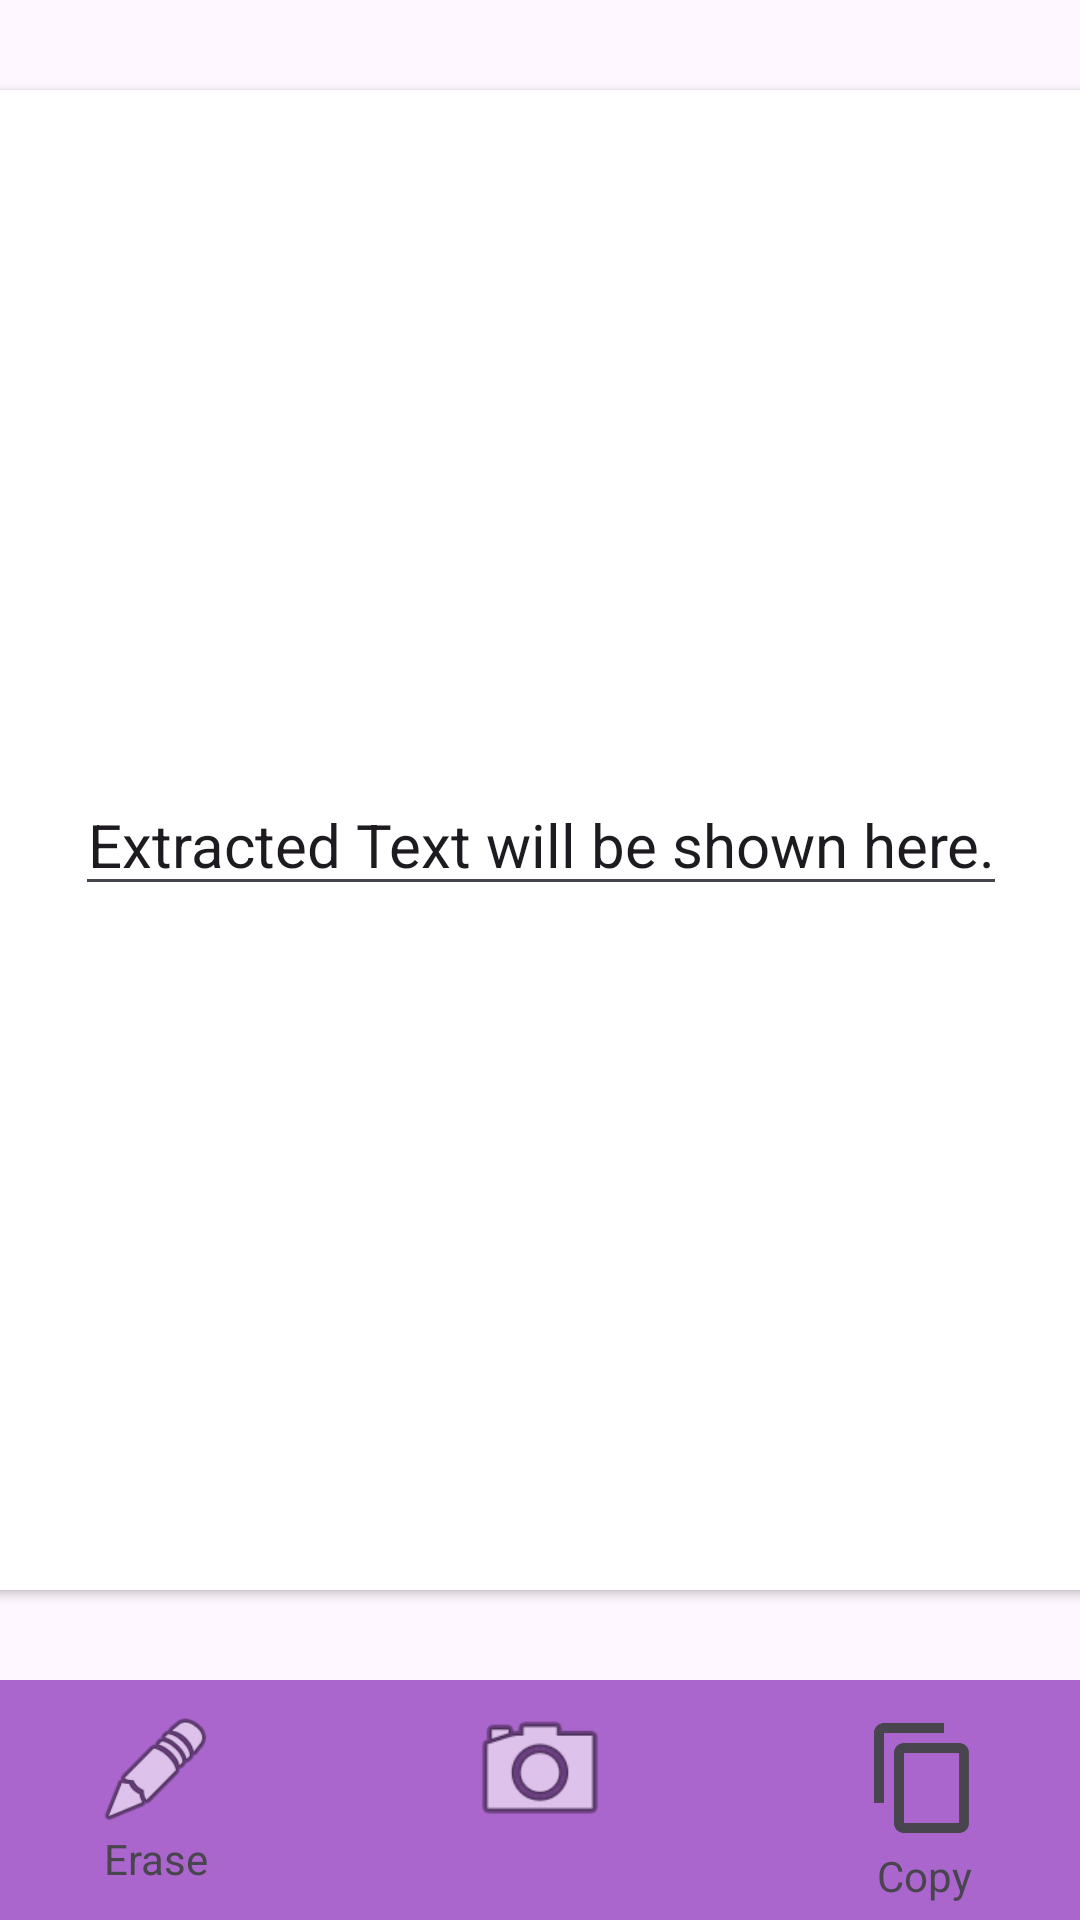

Where to tap for icons on this 1080px x 1920px app screen, as [x,y]:
camera: [540,1768]
edit: [155,1769]
